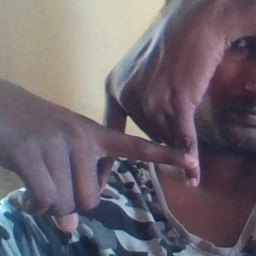H: (82, 86, 209, 204)
